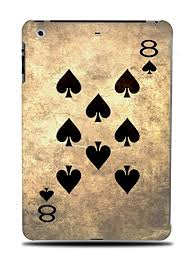eight of spades: (23, 21, 171, 239)
